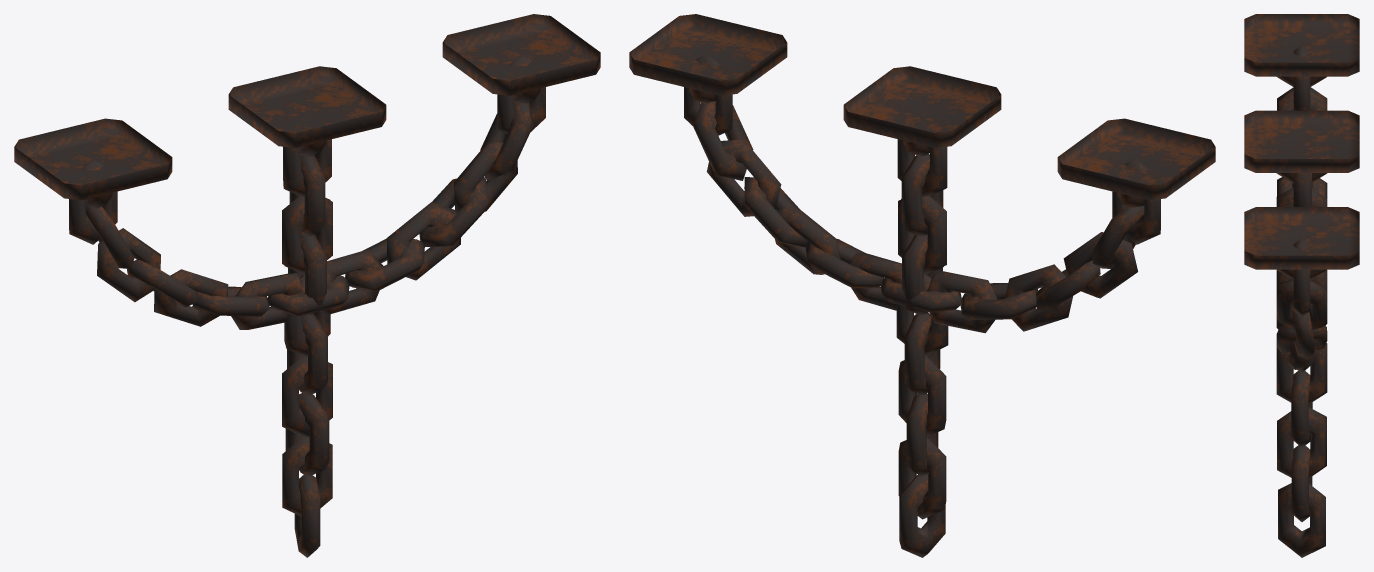
File: chains.fbx
The picture shows the model from 3 angles, left to right: view 1: azimuth 30°, elevation 25°; view 2: azimuth 150°, elevation 25°; view 3: azimuth 270°, elevation 25°; orthographic projection. The views are drawn at different scales.
Visible parts, largest first — view 1: Chain_chained, Chain_hanging_long, Chain_hanging_short; view 2: Chain_chained, Chain_hanging_long, Chain_hanging_short; view 3: Chain_chained, Chain_hanging_long, Chain_hanging_short.
Part boxes in pixels (bbox=[...]): Chain_chained: bbox=[14, 14, 600, 329]; Chain_hanging_long: bbox=[245, 81, 386, 557]; Chain_hanging_short: bbox=[228, 66, 385, 314]; Chain_chained: bbox=[629, 14, 1215, 333]; Chain_hanging_long: bbox=[843, 81, 991, 557]; Chain_hanging_short: bbox=[844, 66, 1001, 314]; Chain_chained: bbox=[1244, 14, 1359, 369]; Chain_hanging_long: bbox=[1244, 125, 1359, 557]; Chain_hanging_short: bbox=[1244, 110, 1359, 315].
Size of the model in its own units: 0.8559 by 0.6988 by 0.1723.
Materials: 1 (1 with a texture image).
